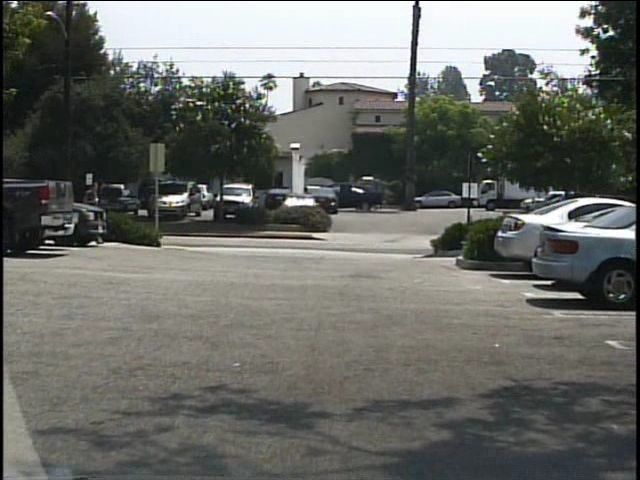person: (82, 180, 108, 246)
